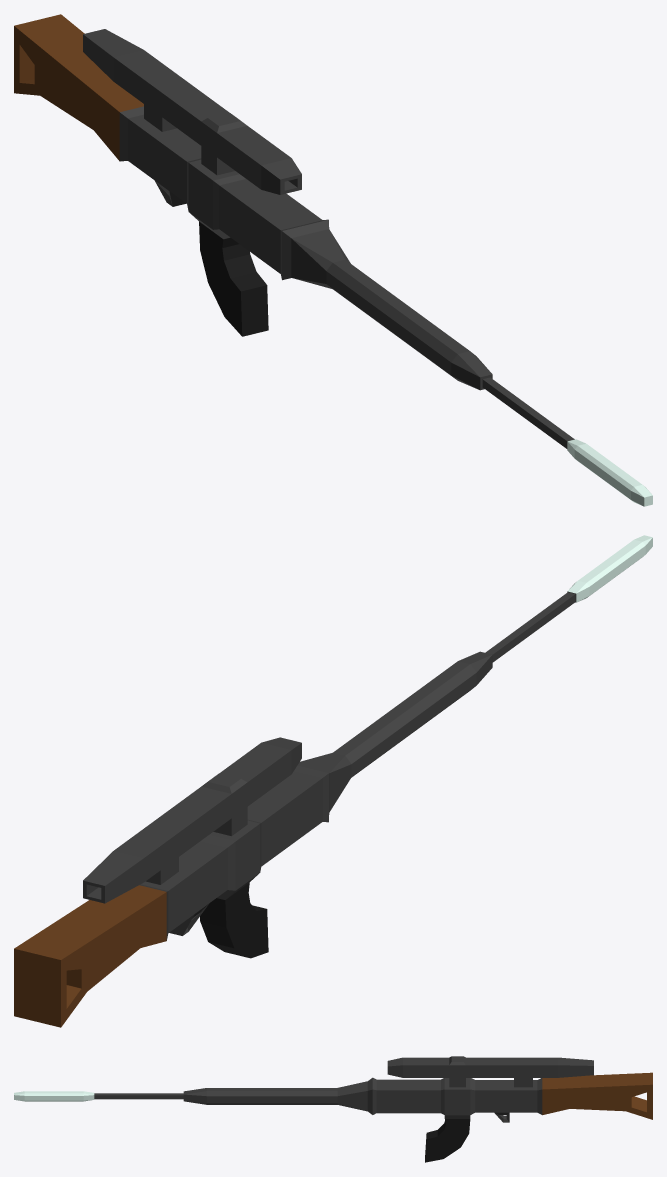
Rendered from SniperRifleDontGetGrandma.fbx.
3 renders of one model, top to bottom at view 1: azimuth 30°, elevation 25°; view 2: azimuth 150°, elevation 25°; view 3: azimuth 270°, elevation 25°, orthographic. The views are drawn at different scales.
Parts seen in each view (by area): view 1: Rifle; view 2: Rifle; view 3: Rifle.
Part boxes in pixels (box(x1,y1,x2,y2)): Rifle: box(14, 14, 652, 506); Rifle: box(14, 535, 652, 1027); Rifle: box(14, 1056, 652, 1162).
Size of the model in its own units: 33.5 by 130 by 753.
